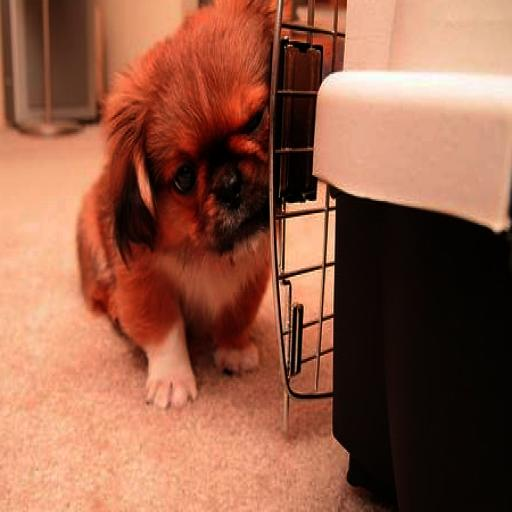dog_face: (109, 28, 296, 258)
